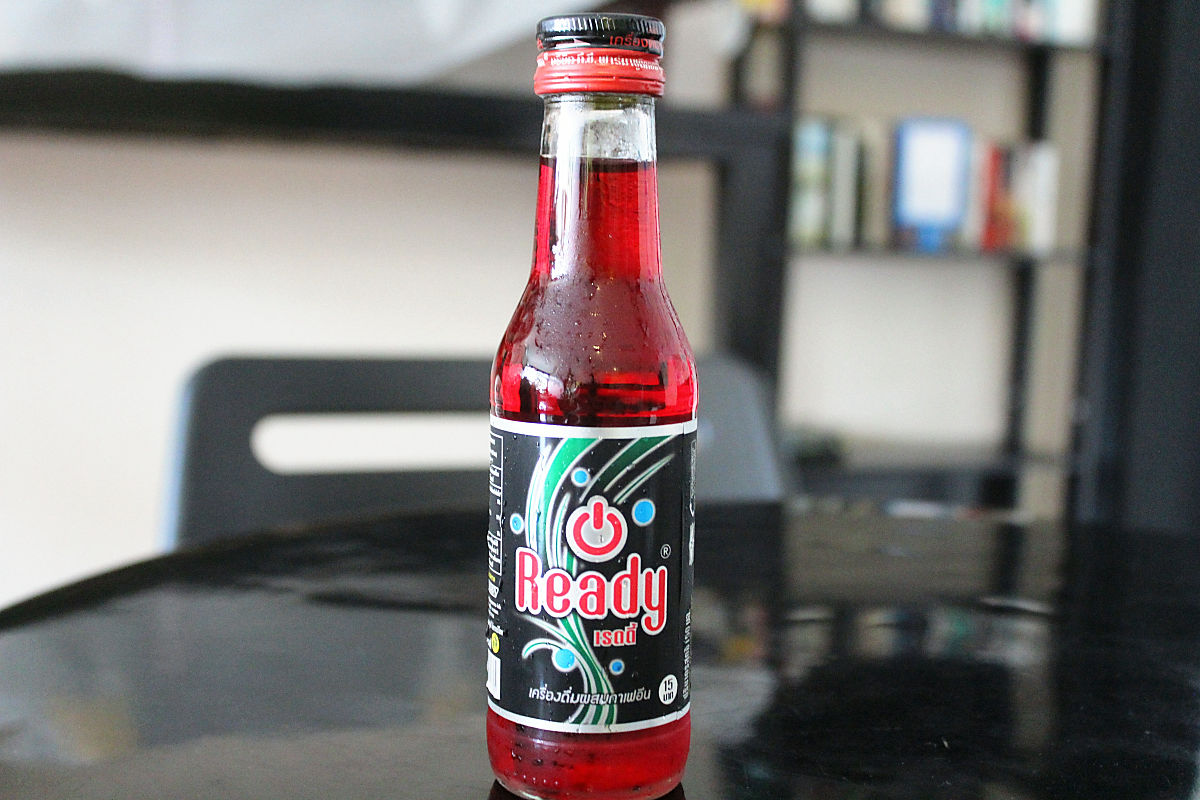glass_bottle: (469, 5, 717, 799)
